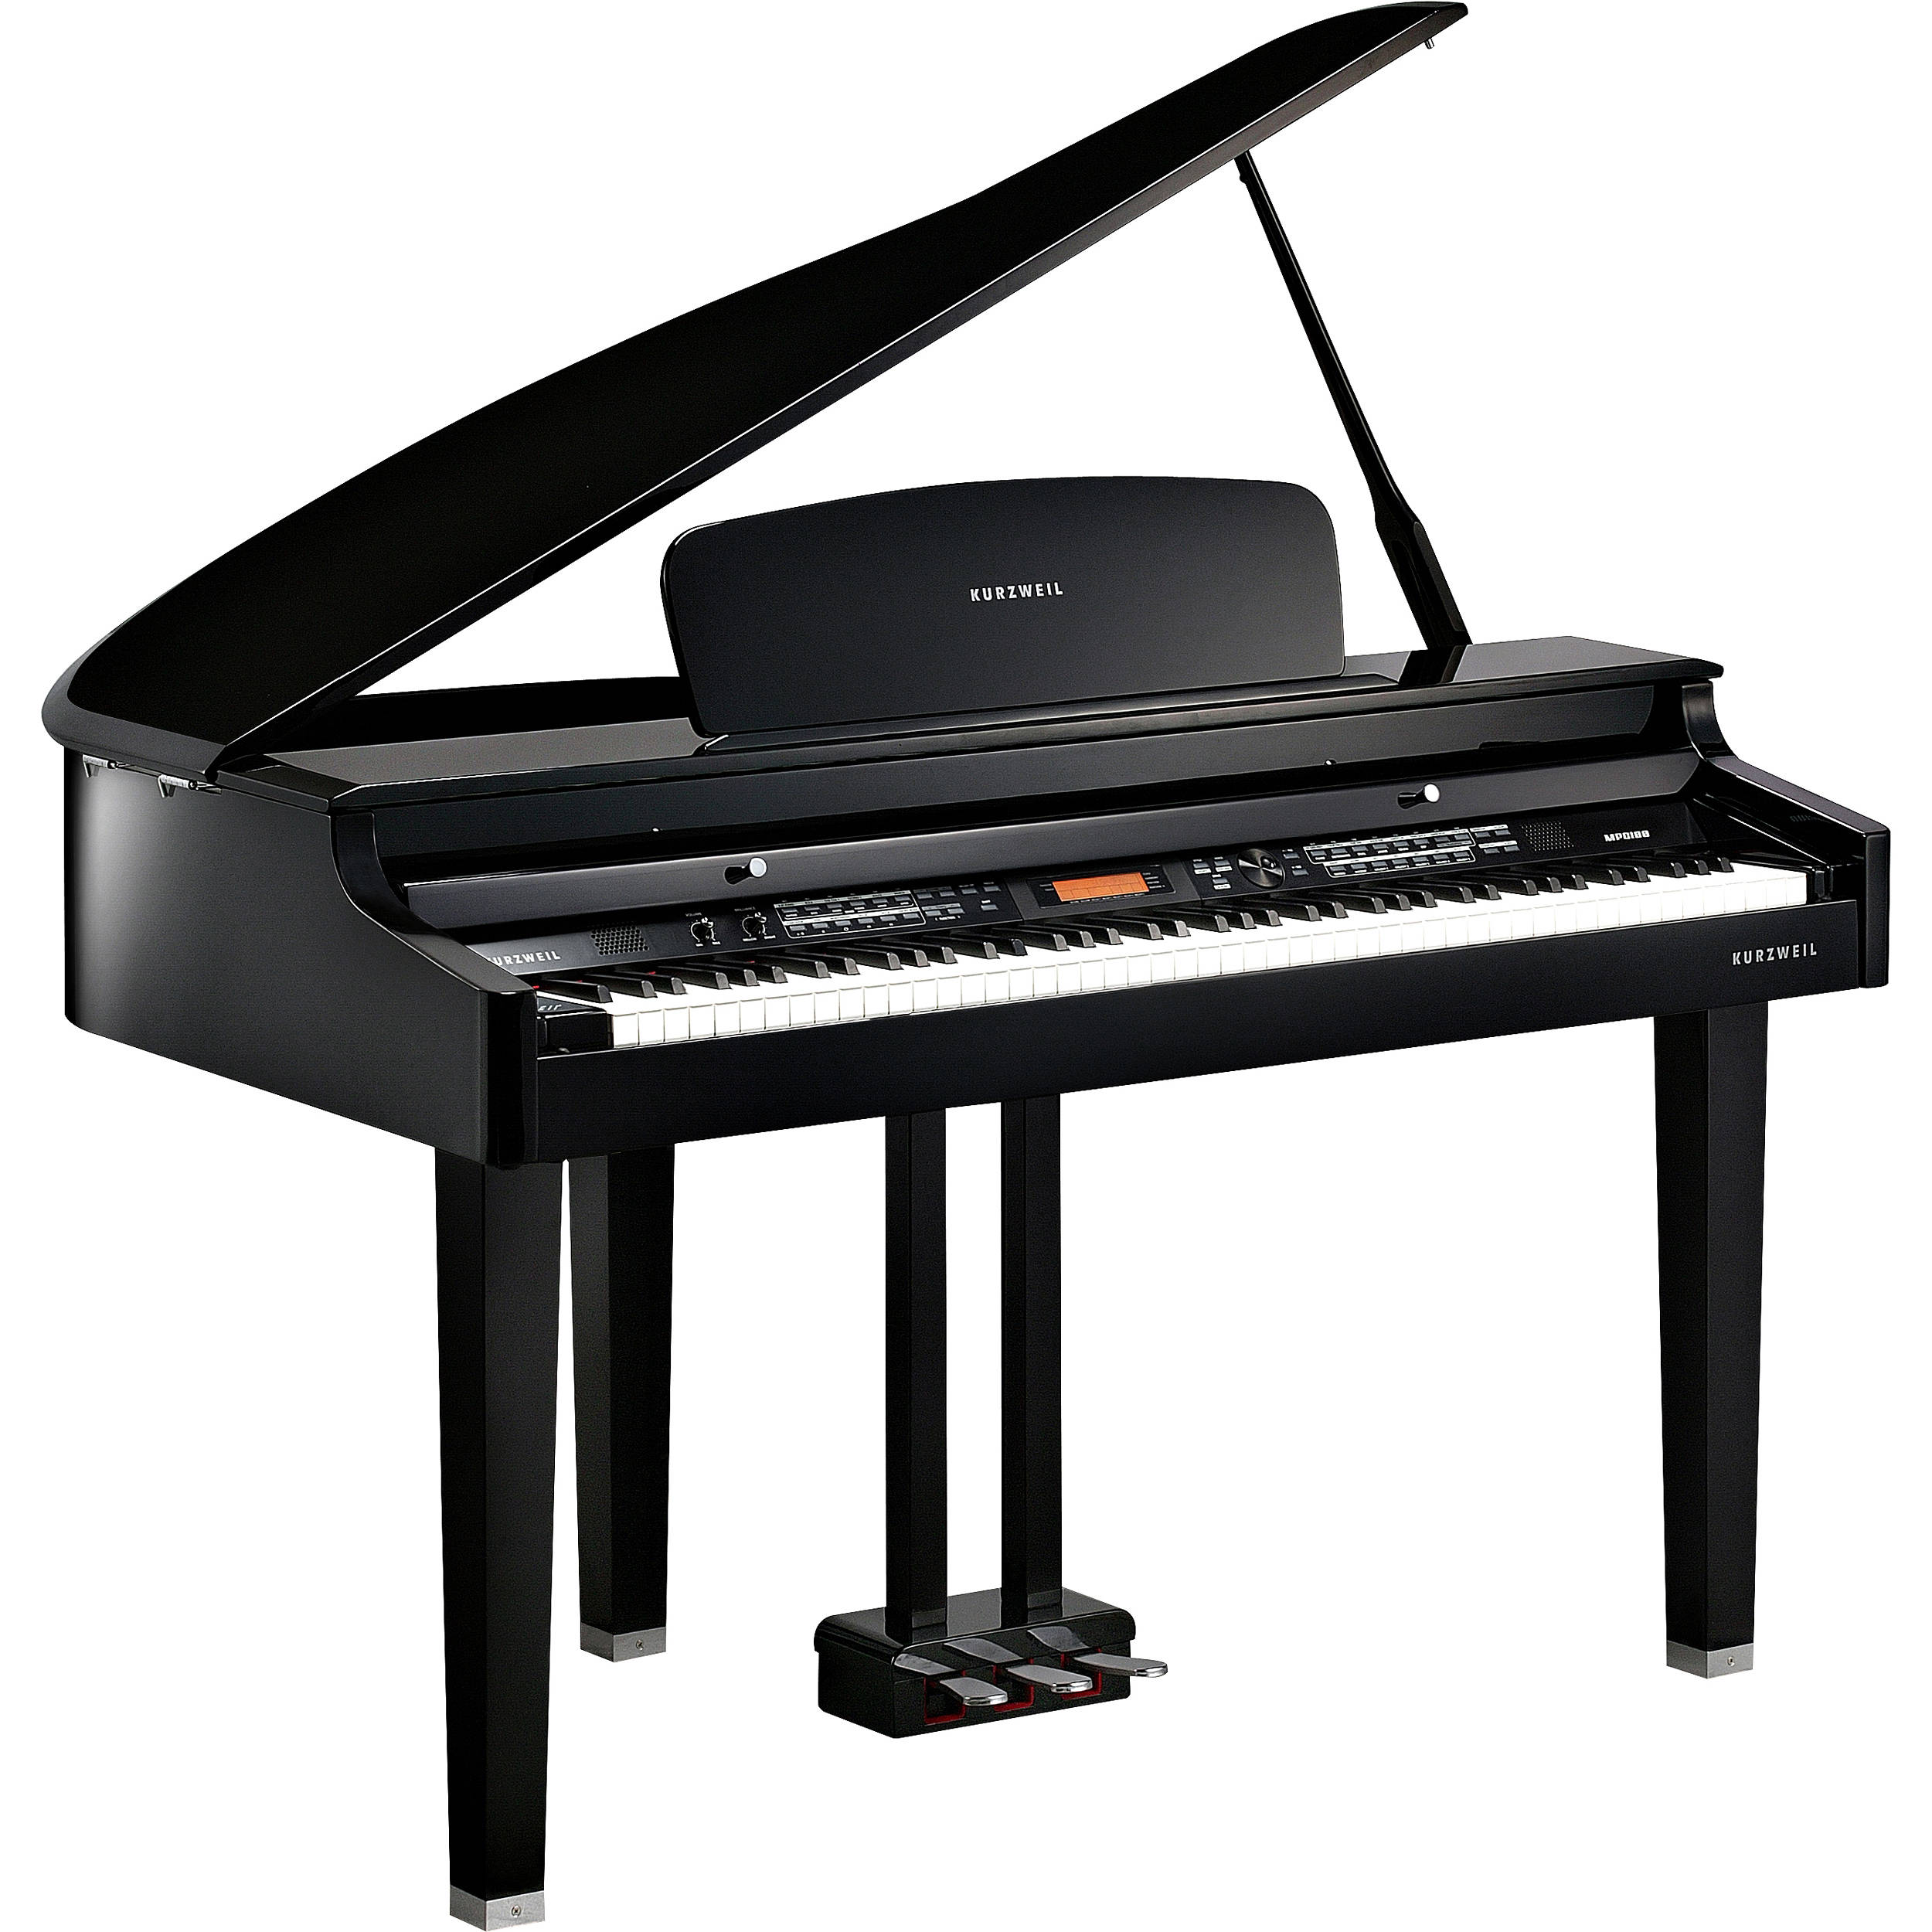GrandPiano: (92, 476, 1932, 1242)
